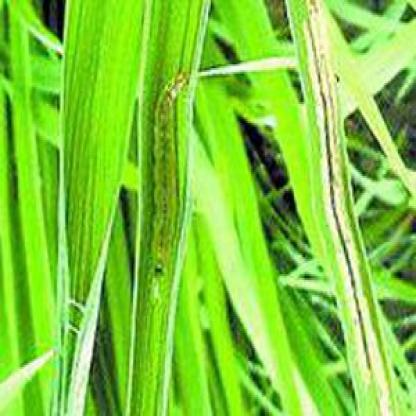leaf-folder: (126, 51, 198, 308)
